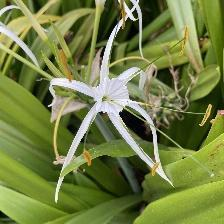spider lily: (49, 1, 180, 206)
